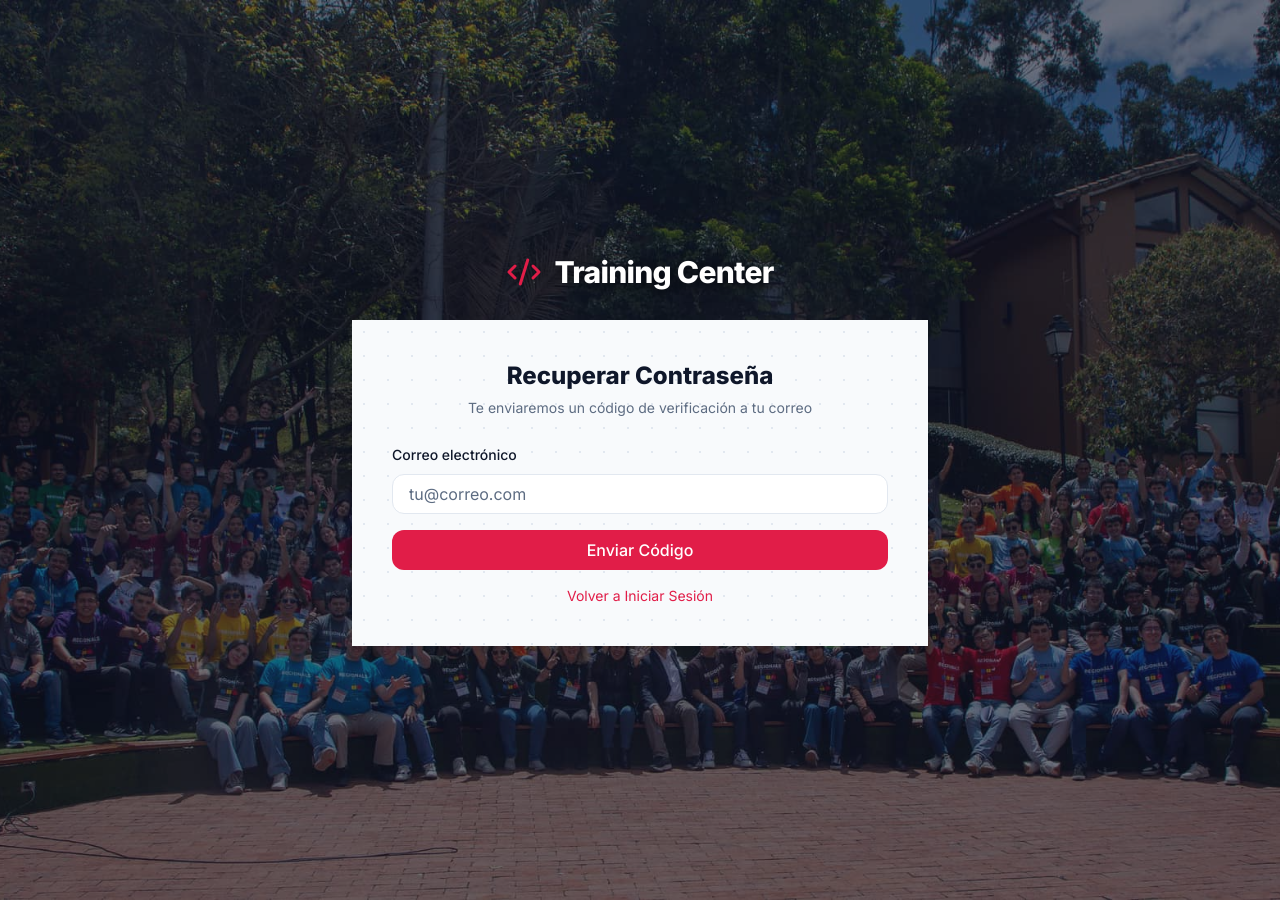
Scenario: RecoverPasswordPage › shows validation error on empty submit
Click the button "Enviar Código": (640, 550) [392,530,888,570]
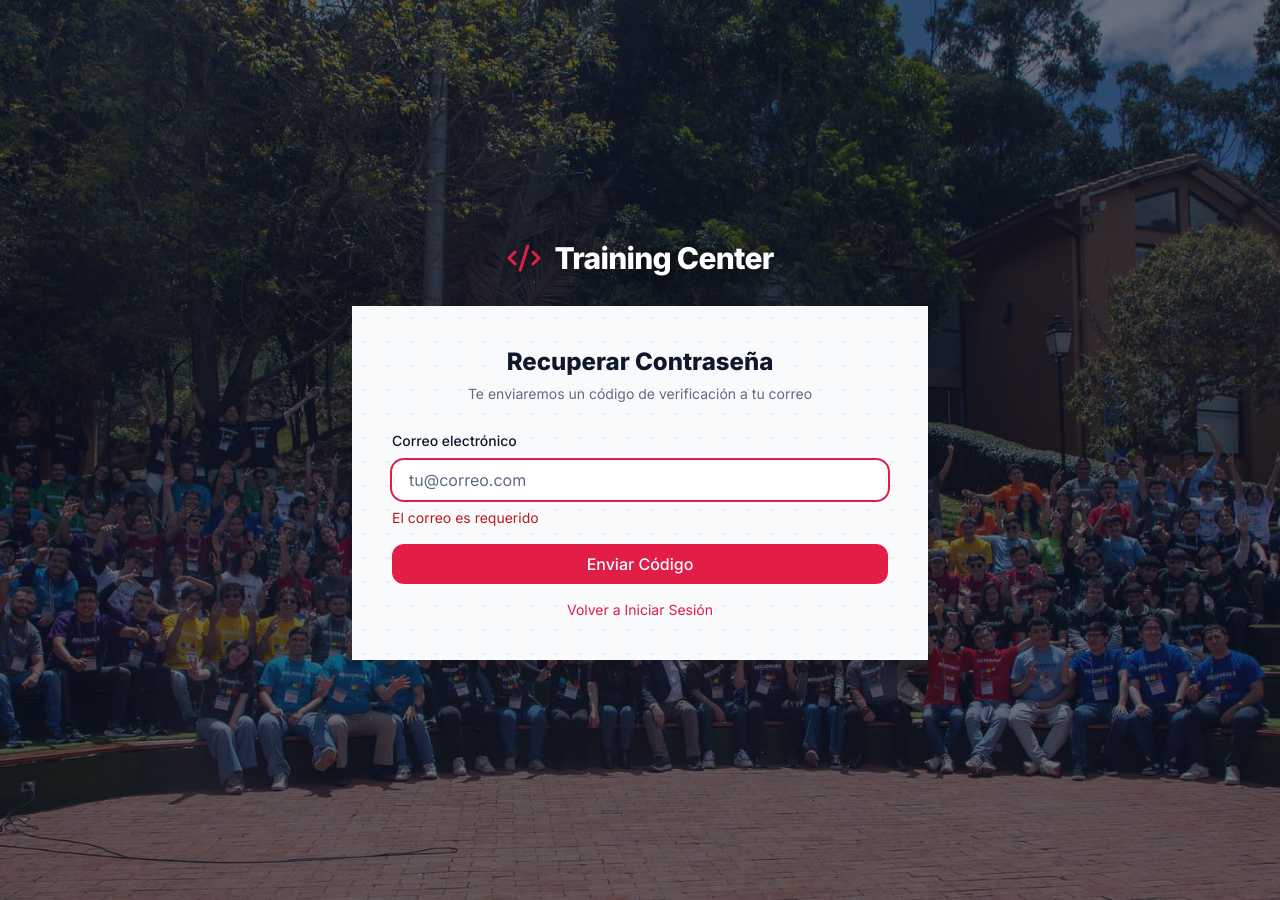
Expected: the text "El correo es requerido" is shown, [392,509,539,526]
